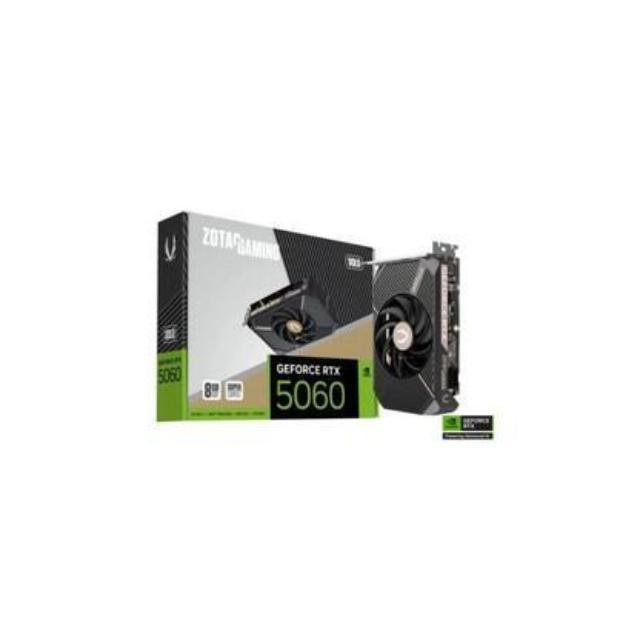GPU: (370, 240, 464, 418)
